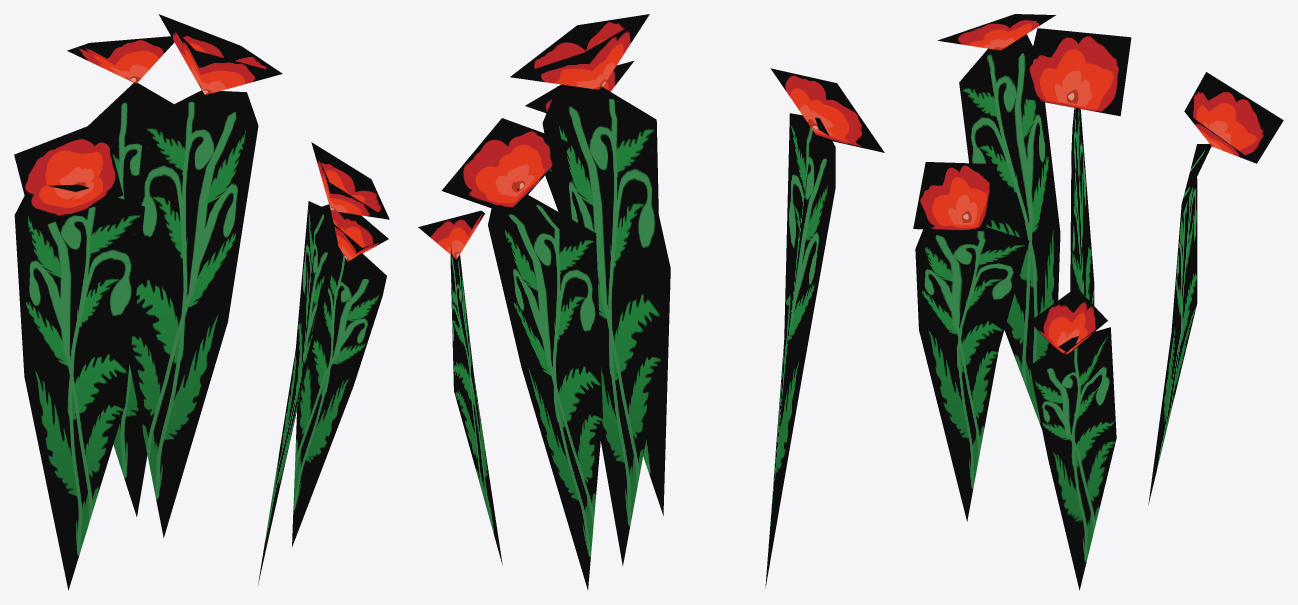
Rendered from Roses.fbx.
3 views of the same model, side by side, from view 1: azimuth 30°, elevation 25°; view 2: azimuth 150°, elevation 25°; view 3: azimuth 270°, elevation 25° (orthographic). The views are drawn at different scales.
Visible parts, largest first — view 1: Roses; view 2: Roses; view 3: Roses.
Boxes of the visible parts, x1,y1,x2,y2 form: Roses: [14, 14, 389, 590]; Roses: [418, 14, 884, 589]; Roses: [913, 14, 1283, 590].
Size of the model in its own units: 0.6317 by 0.8191 by 0.5409.
